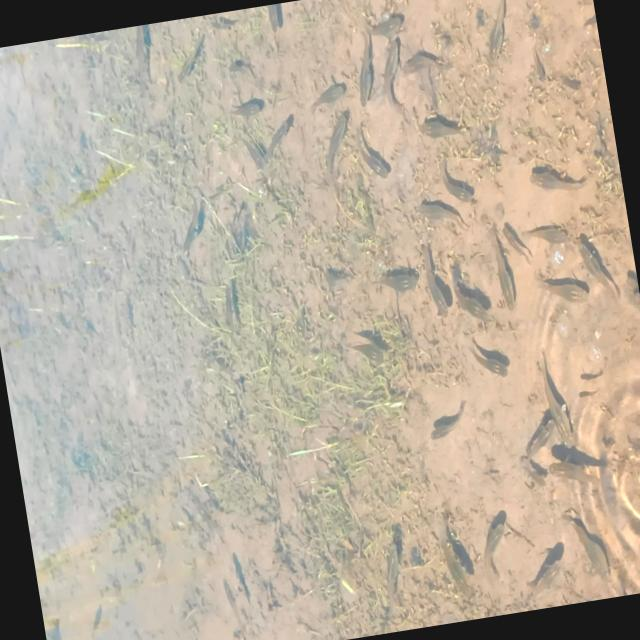Sivrisinek Baligi: (468, 0, 533, 68), (482, 205, 522, 313), (474, 514, 517, 580), (451, 262, 494, 326), (523, 550, 569, 603), (524, 160, 586, 198), (352, 124, 392, 181), (422, 397, 472, 442), (464, 336, 508, 381), (415, 198, 467, 235), (304, 74, 352, 114), (540, 272, 592, 308), (370, 260, 422, 295), (414, 109, 464, 145), (397, 48, 450, 80), (345, 330, 384, 370), (226, 92, 268, 124)
